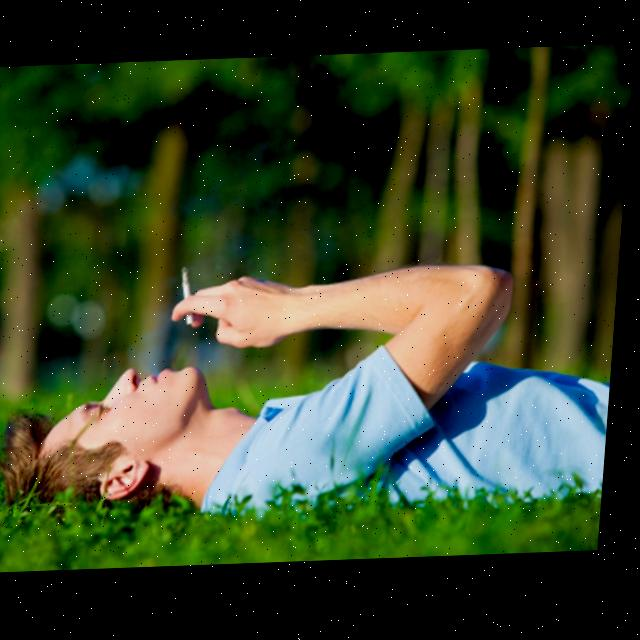cigarette: (183, 268, 202, 326)
